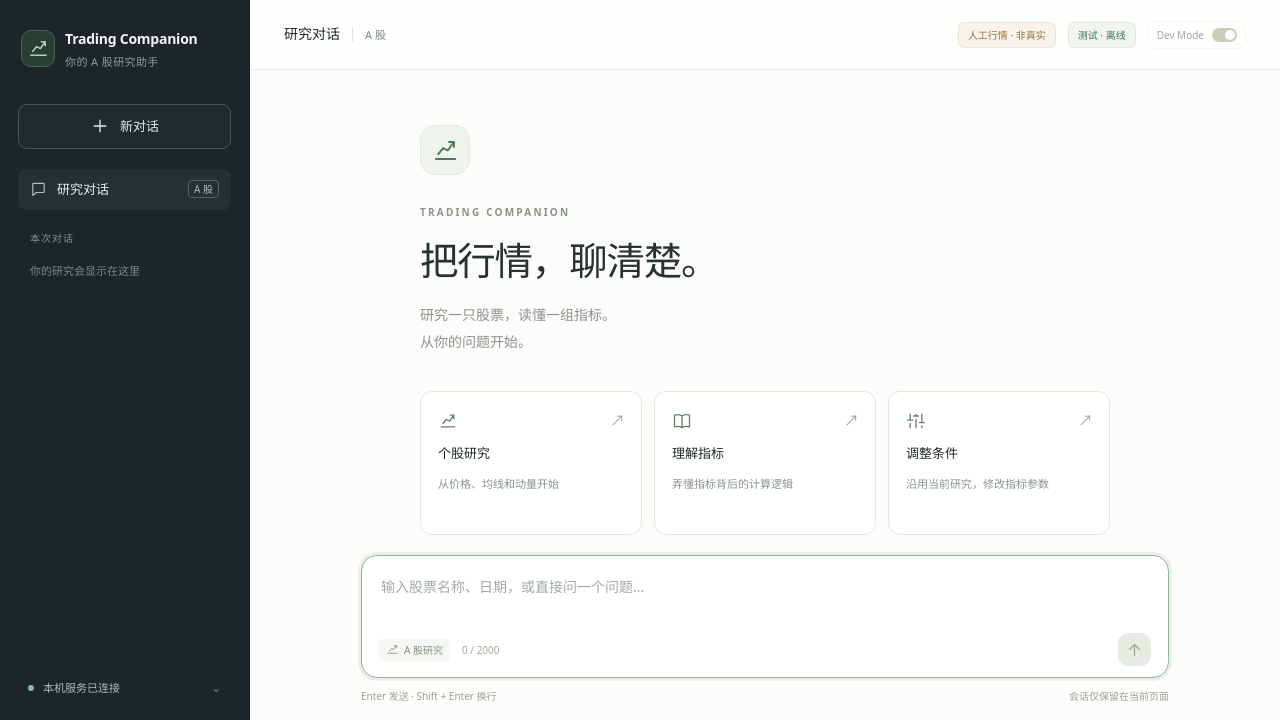
Test: bounded research workflow projection › does not mount supplemental execution details while the natural answer stays visible
This screenshot has width=1280, height=720.
Type "分析平安银行" into the text box named "研究问题" at [765, 599], box [379, 572, 1151, 626]
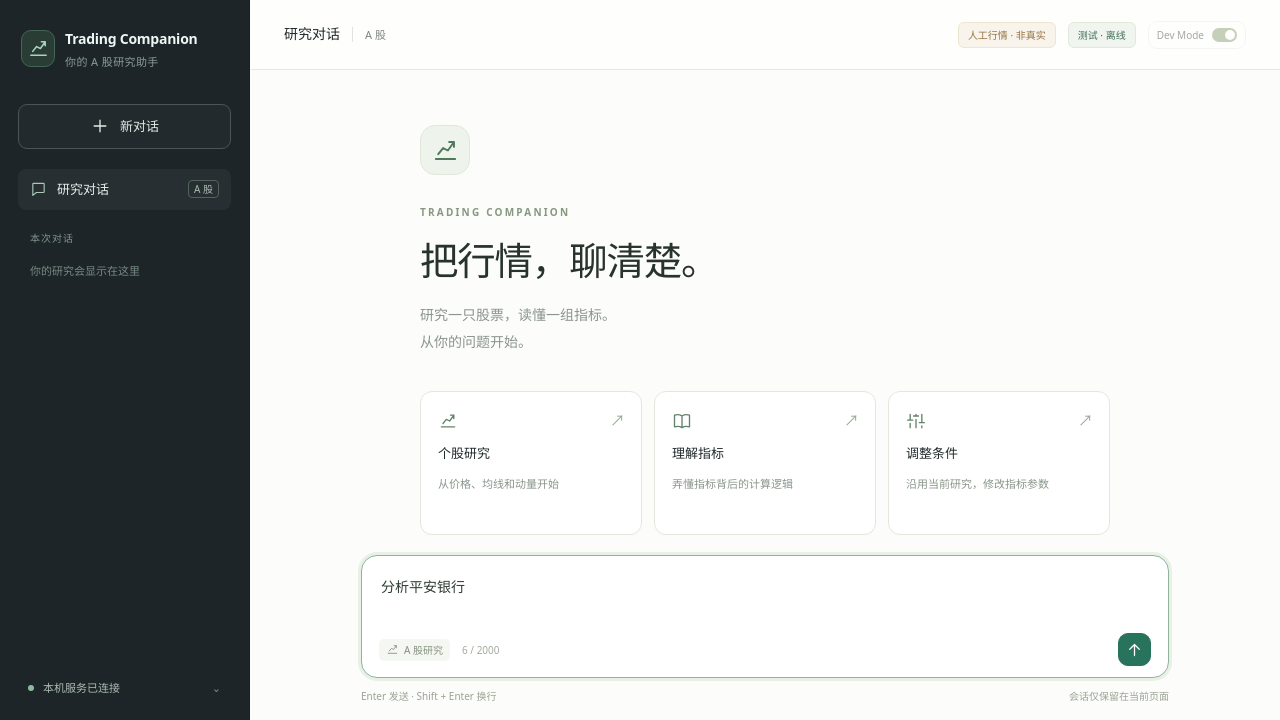
Click the button named "发送问题" at [1134, 650], box [1118, 633, 1151, 666]
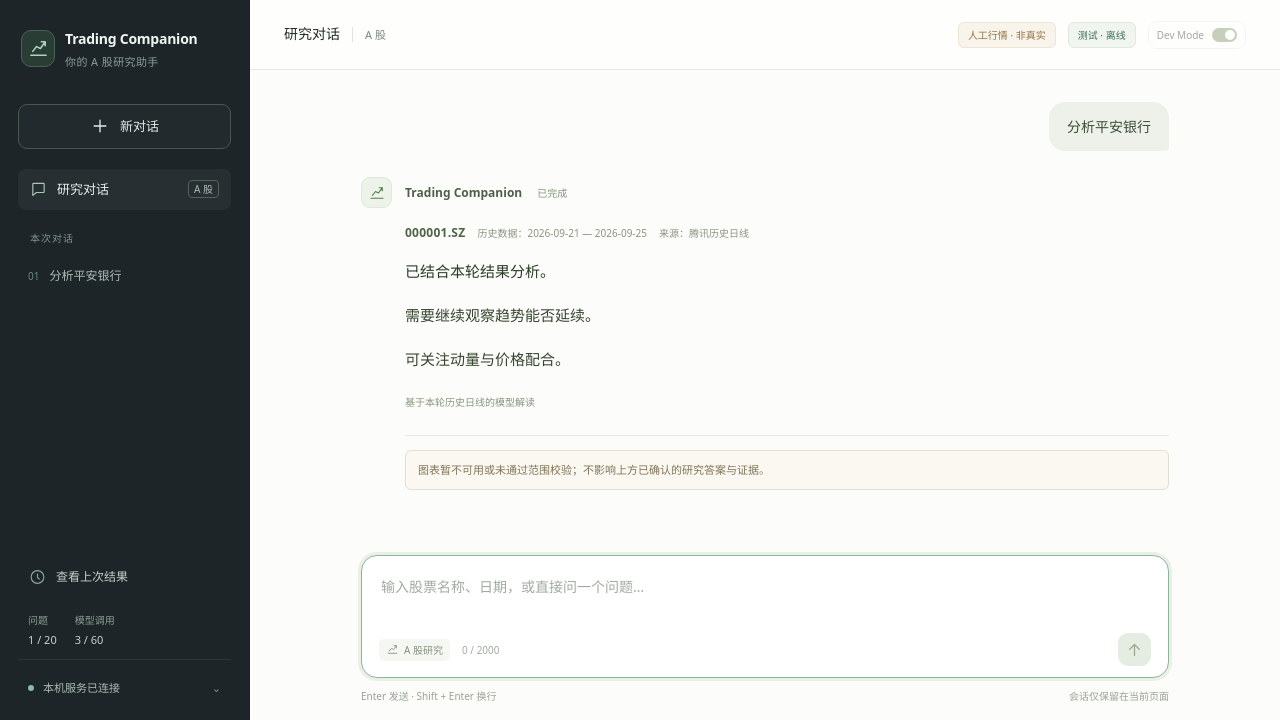
expect the text "已结合本轮结果分析。" is shown: met, box [405, 261, 555, 281]
